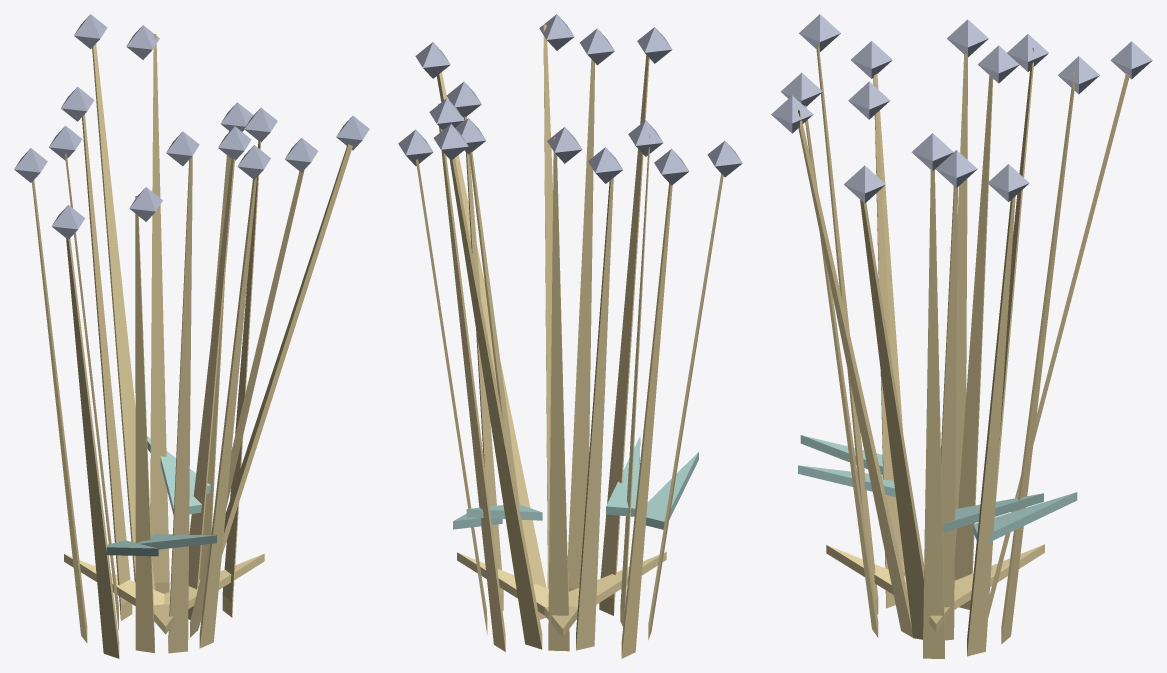
The model's file is world_flax.fbx.
The picture shows the model from 3 angles, left to right: view 1: azimuth 30°, elevation 25°; view 2: azimuth 150°, elevation 25°; view 3: azimuth 270°, elevation 25°; orthographic projection. The views are drawn at different scales.
Parts seen in each view (by area): view 1: world_flax_mesh; view 2: world_flax_mesh; view 3: world_flax_mesh.
Part boxes in pixels (<box>): world_flax_mesh: <box>14,14,369,658</box>; world_flax_mesh: <box>398,14,742,658</box>; world_flax_mesh: <box>771,14,1152,658</box>.
Size of the model in its own units: 0.5037 by 0.832 by 0.4852.
